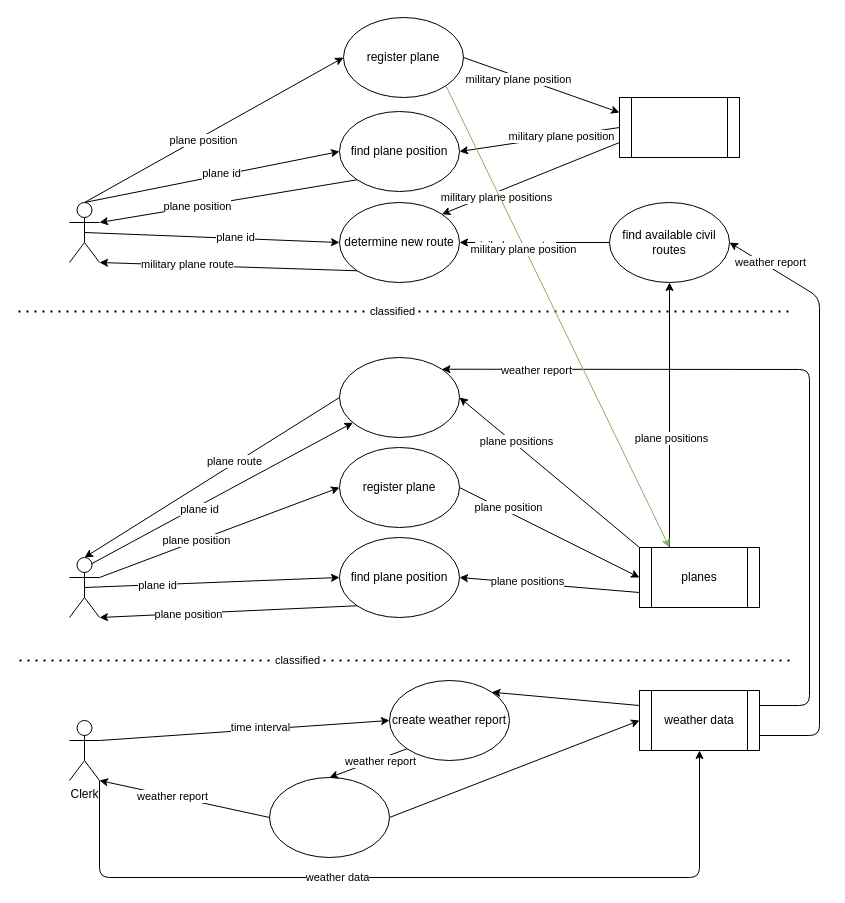
The diagram is 845 pixels wide and 903 high, and some of its shapes have lost their labels. Each missing label, with the box of its shape:
determine route: (338, 356, 460, 438)
Flight Controller: (68, 556, 100, 618)
Military Flight Controller: (68, 202, 100, 262)
military planes: (618, 96, 740, 158)
store weather report: (268, 776, 390, 858)
